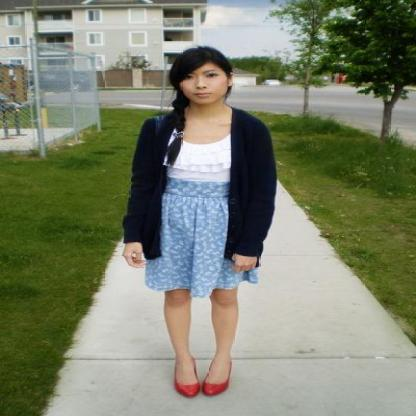jacket: (122, 108, 276, 257)
shirt: (170, 141, 230, 184)
shoe: (174, 376, 228, 398)
skirt: (145, 174, 254, 290)
